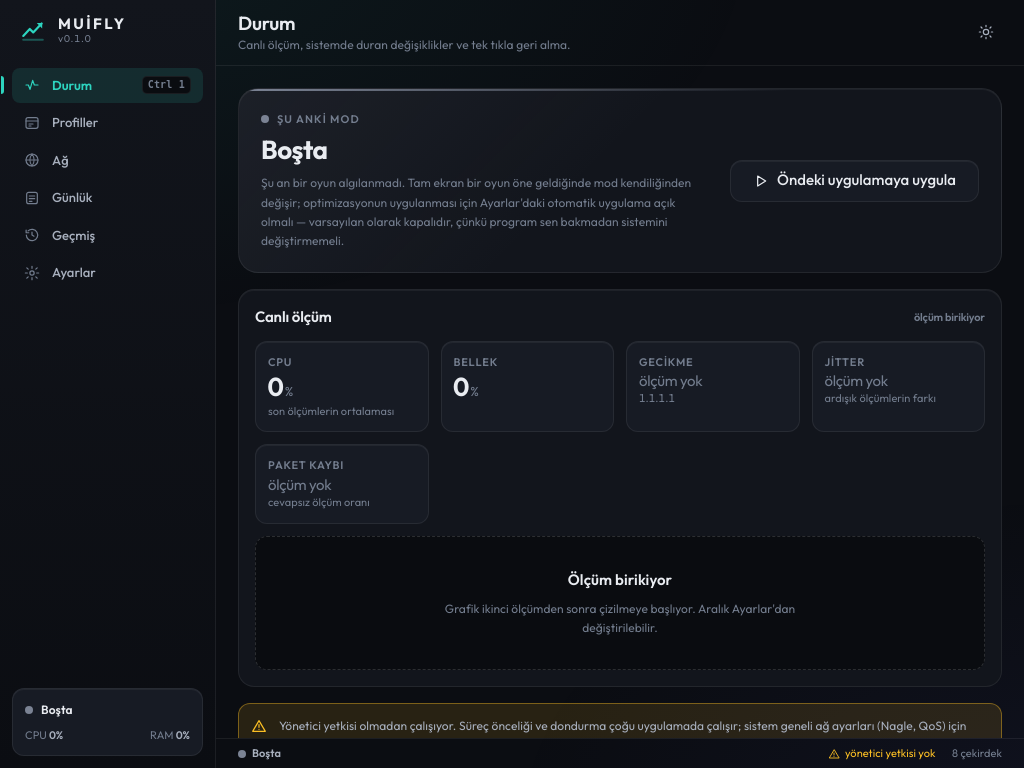
Test case: App — profilin ne yapacağı › satırdaki özet açılınca backend metinlerini gösteriyor
Expected: the button "Durum Ctrl 1" is shown, top-left (12, 68), bottom-right (203, 103)
What coordinates should you click on to do the following:
click the button "Profiller"
I would click on:
 (108, 123)
Its box is top-left (12, 105), bottom-right (203, 140).
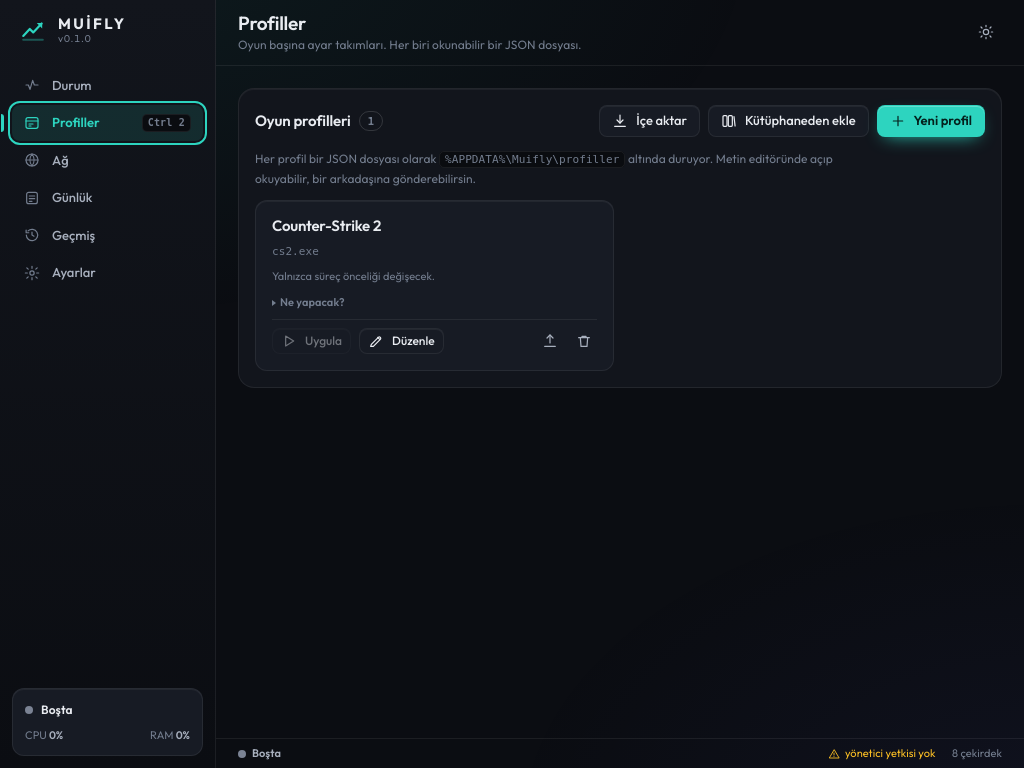
What coordinates should you click on to do the following:
click the heading "Ne yapacak?"
I would click on:
 (308, 303)
Its box is top-left (272, 294), bottom-right (345, 311).
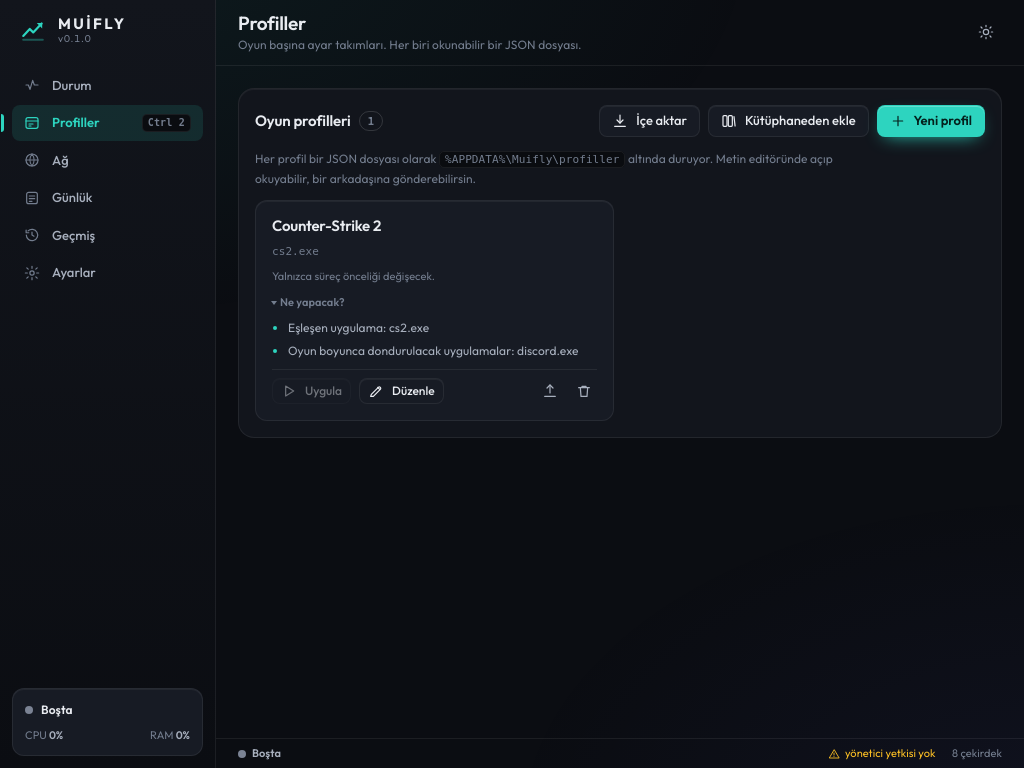
Expected: the list item "Oyun boyunca dondurulacak uygulamalar: discord.exe" is shown, top-left (288, 342), bottom-right (597, 361)
